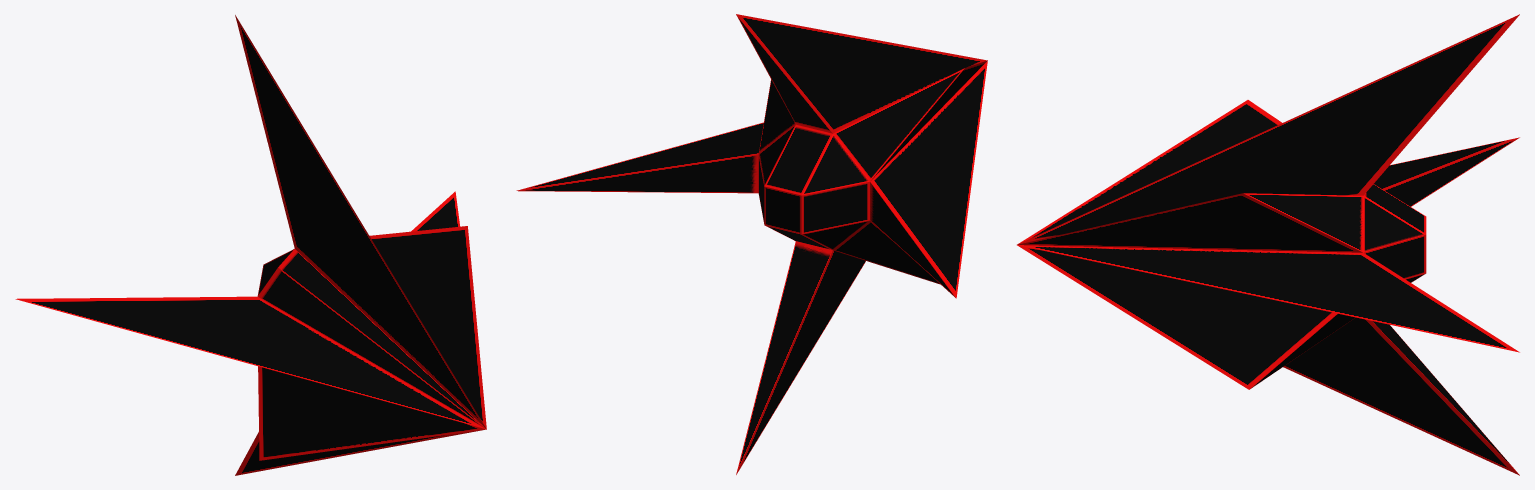
The model's file is WormV2Head.fbx.
3 renders of one model, left to right at view 1: azimuth 30°, elevation 25°; view 2: azimuth 150°, elevation 25°; view 3: azimuth 270°, elevation 25°, orthographic.
Parts seen in each view (by area): view 1: pPyramid1; view 2: pPyramid1; view 3: pPyramid1.
Boxes of the visible parts, x1,y1,x2,y2 form: pPyramid1: (15,15,486,475); pPyramid1: (516,14,987,474); pPyramid1: (1017,14,1519,475).
Size of the model in its own units: 4.2 by 4.2 by 4.15.
1 material, 1 textured.
